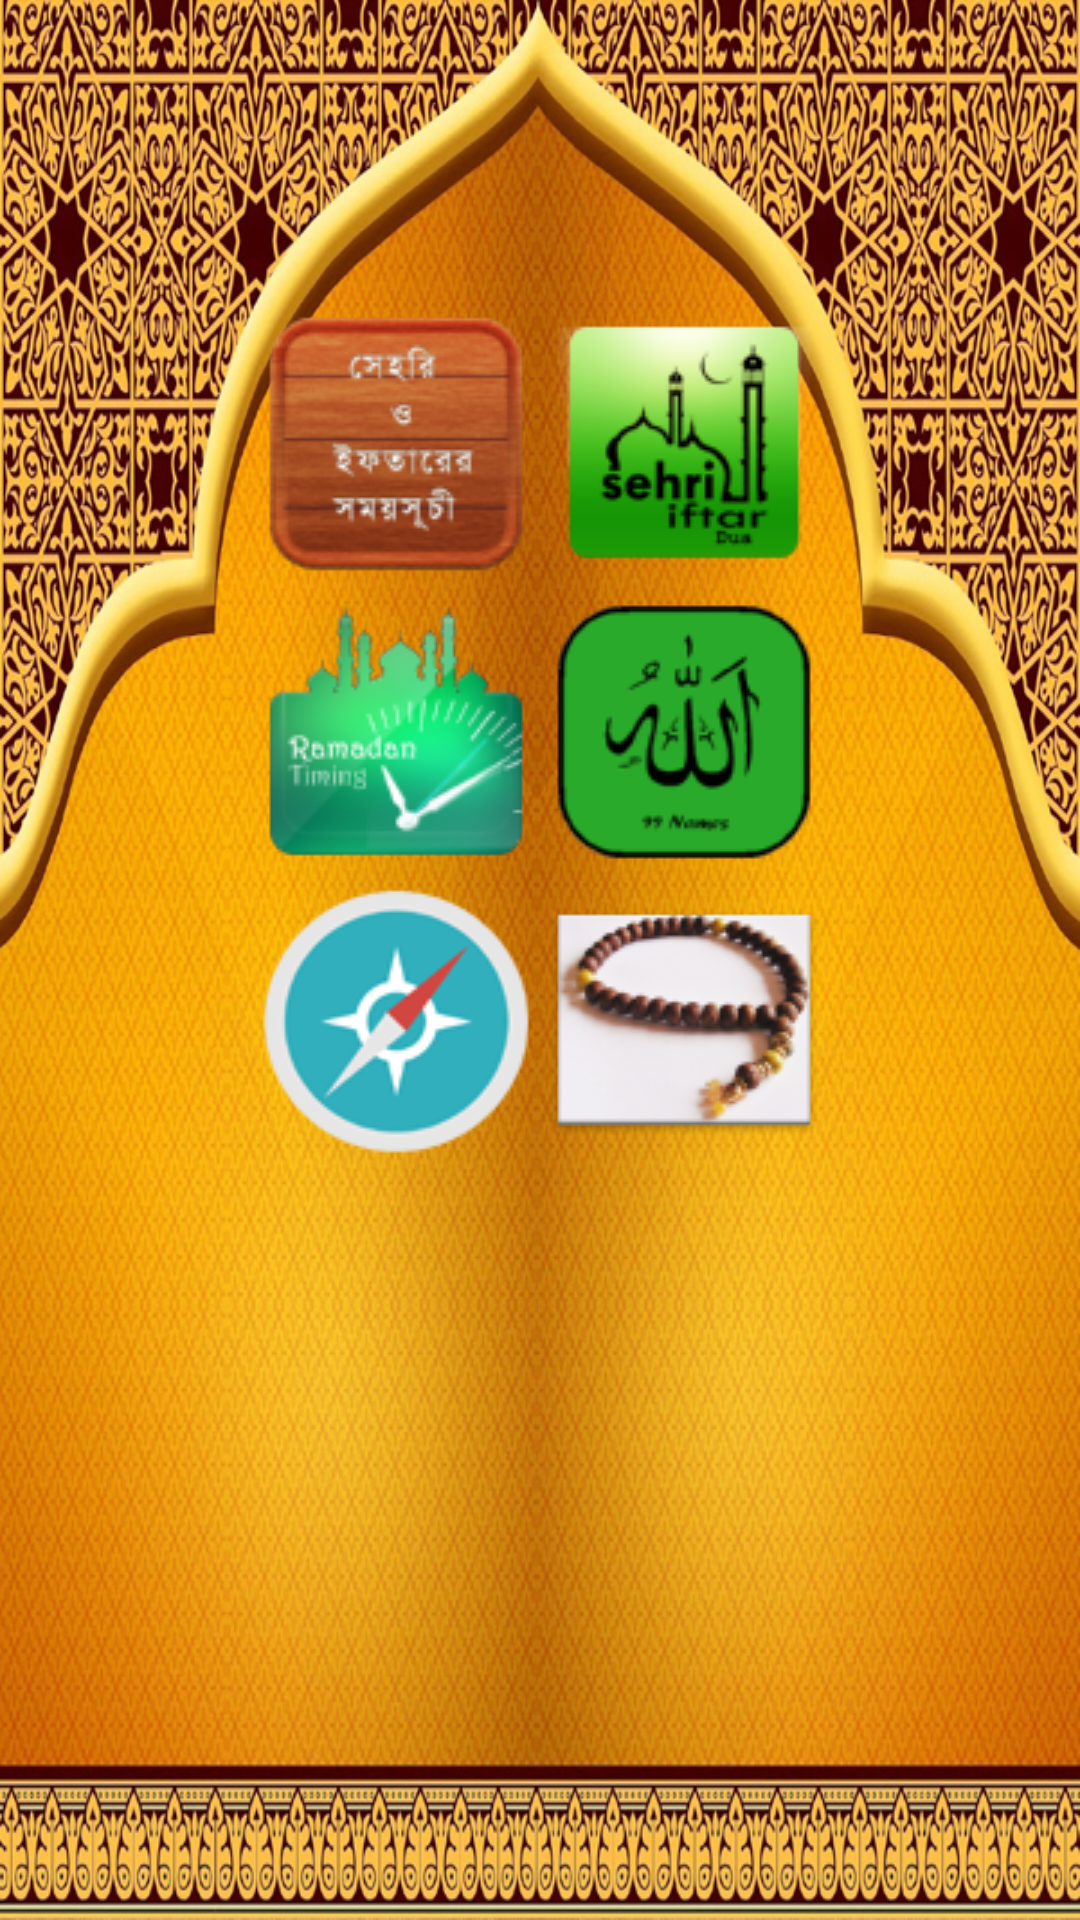

Icon click points for this 1080x1920 phone screenshot, format (x,y):
compas: (396,1020)
